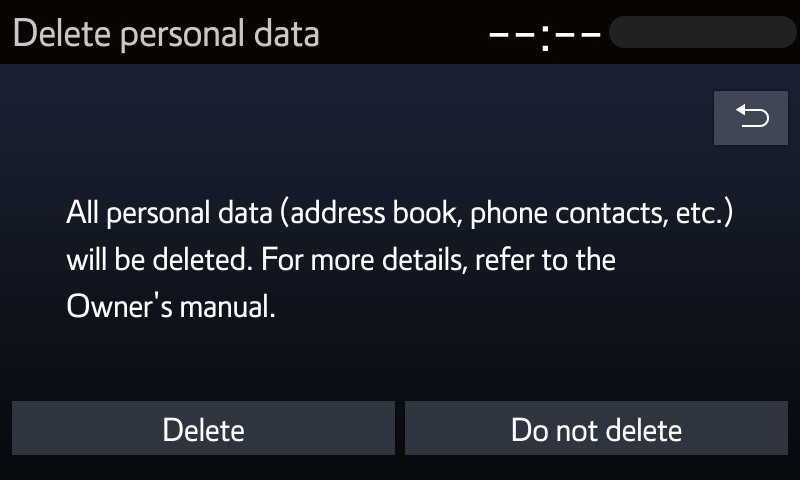touchPart: (402, 397, 793, 460), (6, 399, 399, 459), (713, 91, 788, 146)
untouchPart: (60, 182, 760, 334), (11, 11, 323, 53), (476, 11, 798, 51)
